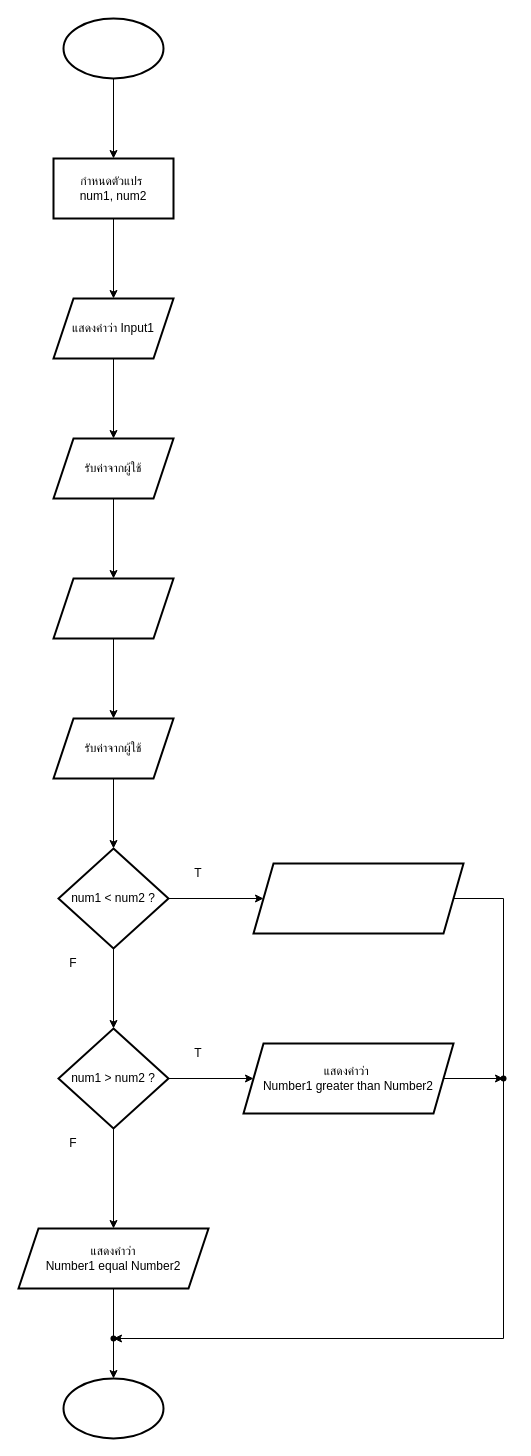
The diagram is 531 pixels wide and 1456 high, and some of its shapes have lost their labels. Each missing label, with the centre of its shape:
"end" goes at pixel 113 1408.
"start" goes at pixel 113 48.
"แสดงคำว่า Input2" goes at pixel 113 608.
"แสดงคำว่า Number1 lower than Number2" goes at pixel 358 898.
